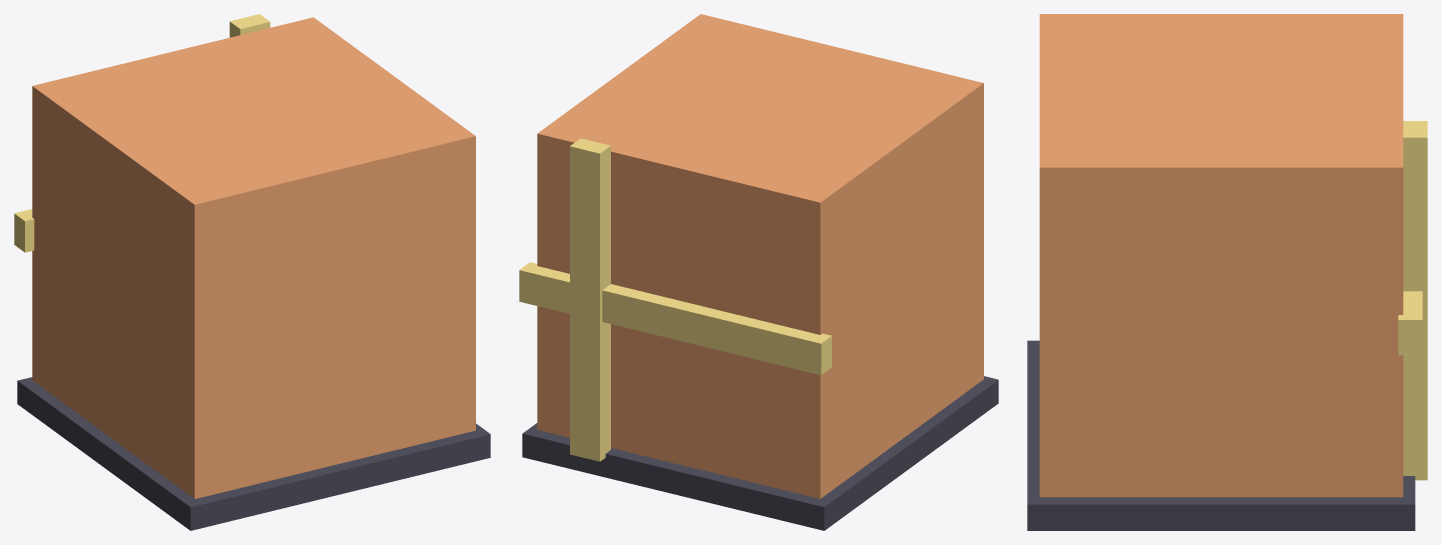
The model's file is crate_box_obstacle.glb.
3 renders of one model, left to right at view 1: azimuth 30°, elevation 25°; view 2: azimuth 150°, elevation 25°; view 3: azimuth 270°, elevation 25°, orthographic. The views are drawn at different scales.
Visible parts, largest first — view 1: crate, shadow, band_front, band_v; view 2: crate, shadow, band_v, band_front; view 3: crate, shadow, band_v, band_front.
Part boxes in pixels (x1,y1,x2,y2): crate: (32, 17, 475, 498); shadow: (17, 377, 490, 530); band_front: (14, 209, 34, 252); band_v: (229, 14, 270, 37); crate: (537, 14, 983, 498); shadow: (522, 376, 998, 530); band_v: (570, 138, 610, 461); band_front: (519, 262, 831, 375); crate: (1039, 14, 1403, 497); shadow: (1027, 340, 1415, 530); band_v: (1403, 121, 1427, 480); band_front: (1398, 291, 1422, 355).
Size of the model in its own units: 0.8 by 0.83 by 0.825.
